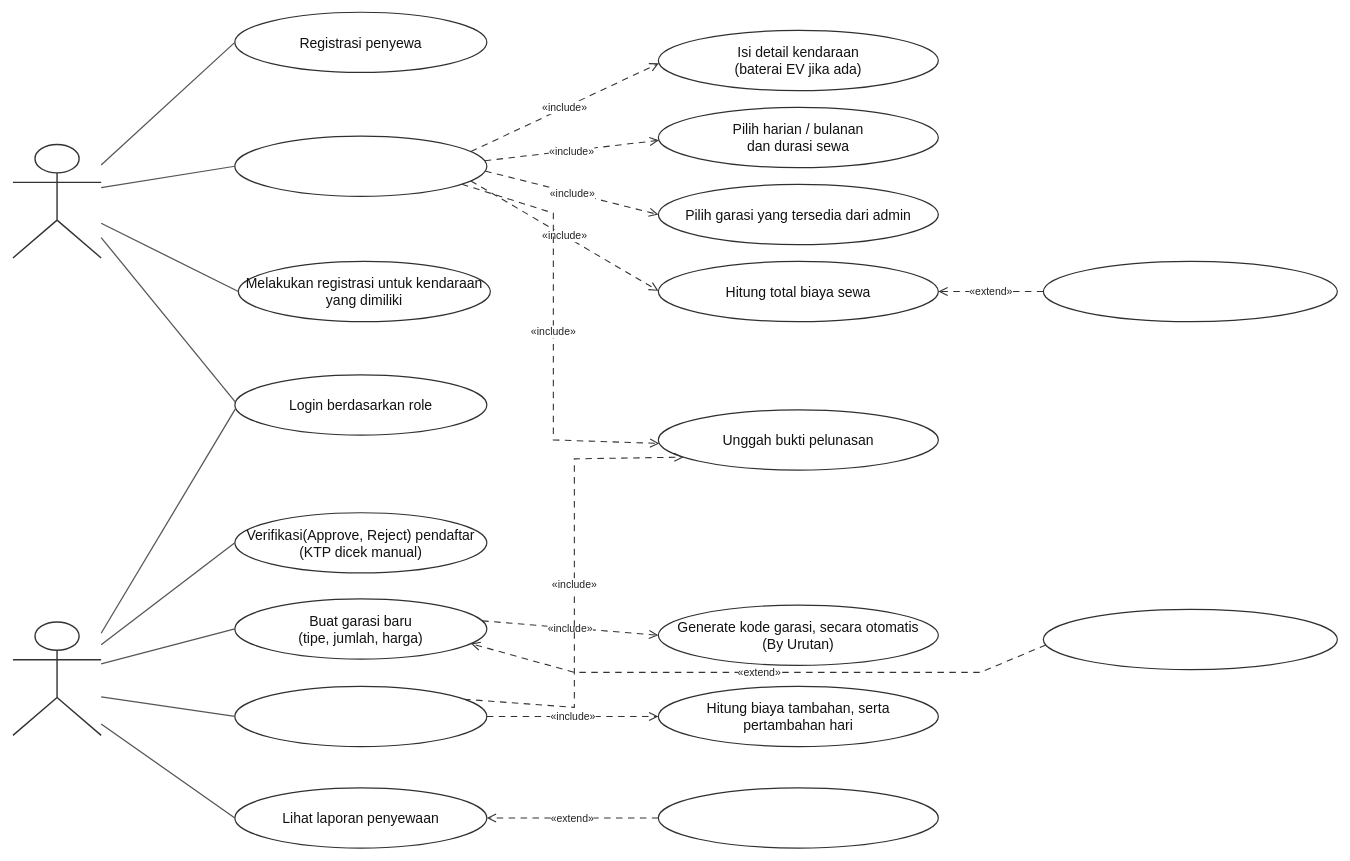
Image size: 1350x861. Some labels were removed from this diagram. The shapes that lost their labels are listed below. From the top down, each one's centre as x and y in pixels, then its label:
(360,166): Ajukan sewa garasi
(57,201): Penyewa
(1190,291): Hitung biaya pengisian listrik
(1190,639): Input tarif listrik per kWh
(57,678): Admin
(360,716): Perpanjang masa sewa
(798,817): Filter laporan (periode, tipe, penyewa)
